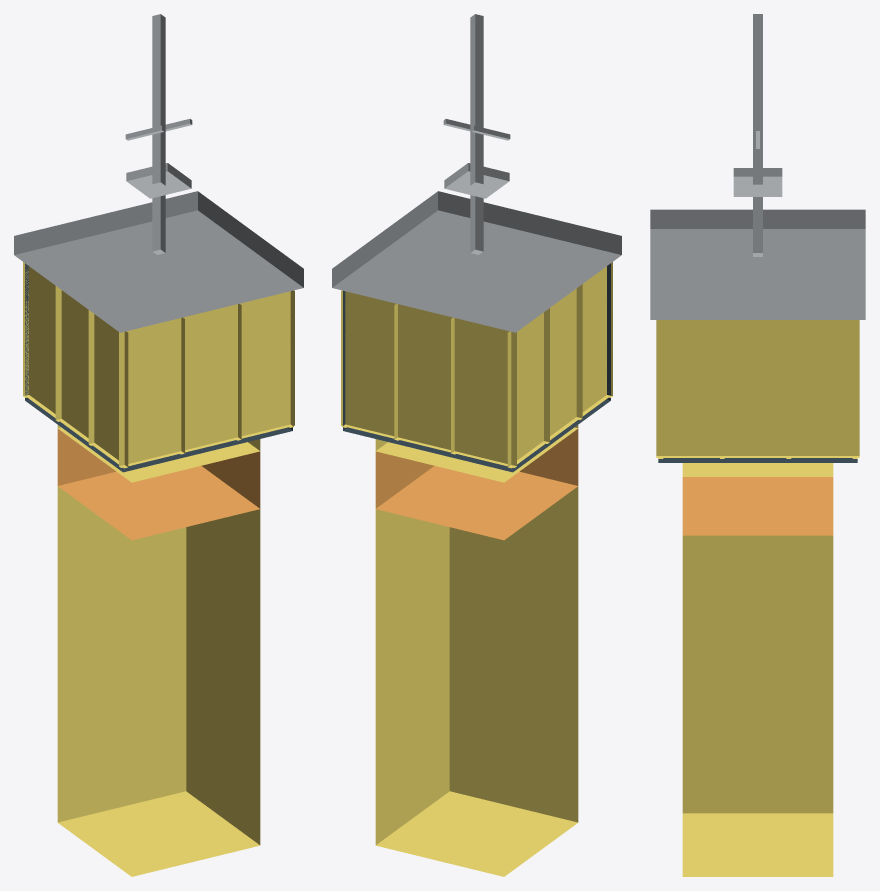
File: apt_tower.glb
The picture shows the model from 3 angles, left to right: view 1: azimuth 30°, elevation 25°; view 2: azimuth 150°, elevation 25°; view 3: azimuth 270°, elevation 25°; orthographic projection.
Parts seen in each view (by area): view 1: apt_tower_lod0; view 2: apt_tower_lod0; view 3: apt_tower_lod0.
Part boxes in pixels (x1,y1,x2,y2): apt_tower_lod0: [14, 14, 303, 876]; apt_tower_lod0: [332, 14, 621, 876]; apt_tower_lod0: [650, 14, 865, 876].
Size of what is drawn, in the model's own units: 8 by 34 by 8.
